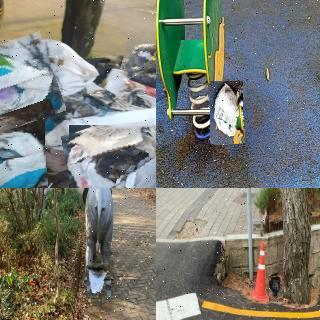Garbage: (0, 41, 61, 144), (65, 120, 156, 188), (0, 116, 46, 188), (209, 81, 244, 144), (122, 38, 156, 81), (86, 265, 111, 297), (269, 277, 283, 301)
